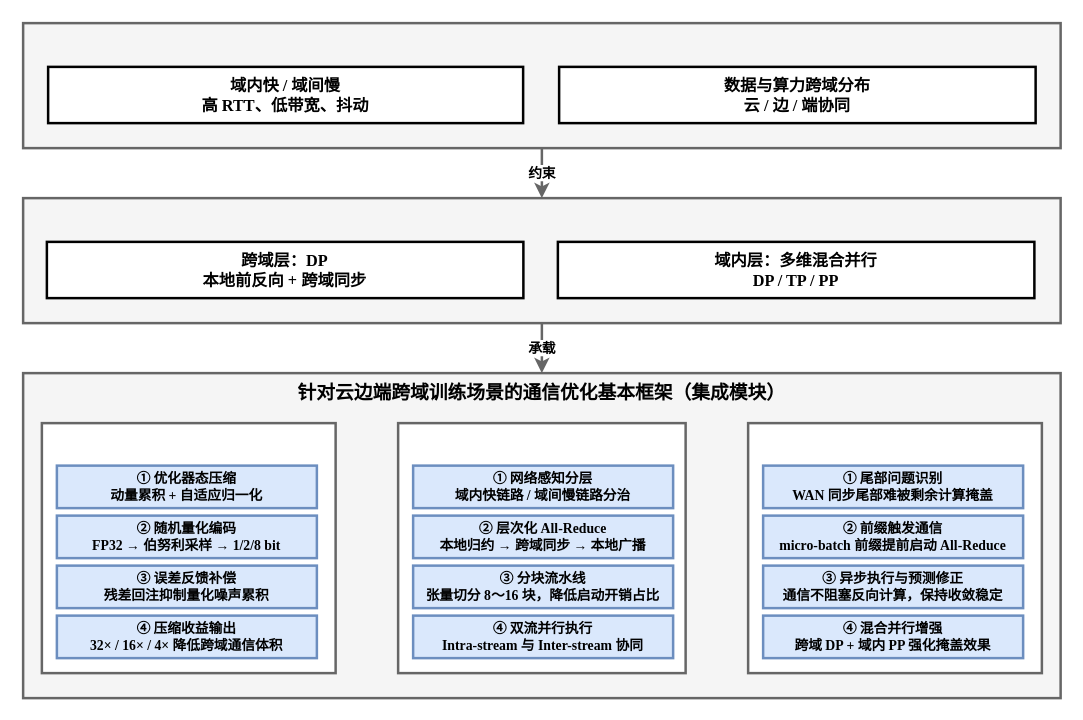
This 1083x720 diagram has some shape labels left out. The box of each missing label's shape, as (x1, y1, x2, y2) in pixels:
云边端协同模型训练并行策略选择: (21, 196, 1061, 324)
云边端跨域训练场景: (21, 21, 1061, 149)
模块 1：低比特量化[数据]: (40, 421, 336, 674)
模块 2：集合通信流水化[通信库]: (396, 421, 686, 674)
模块 3：计算-通信掩盖[训练框架]: (746, 421, 1042, 674)
